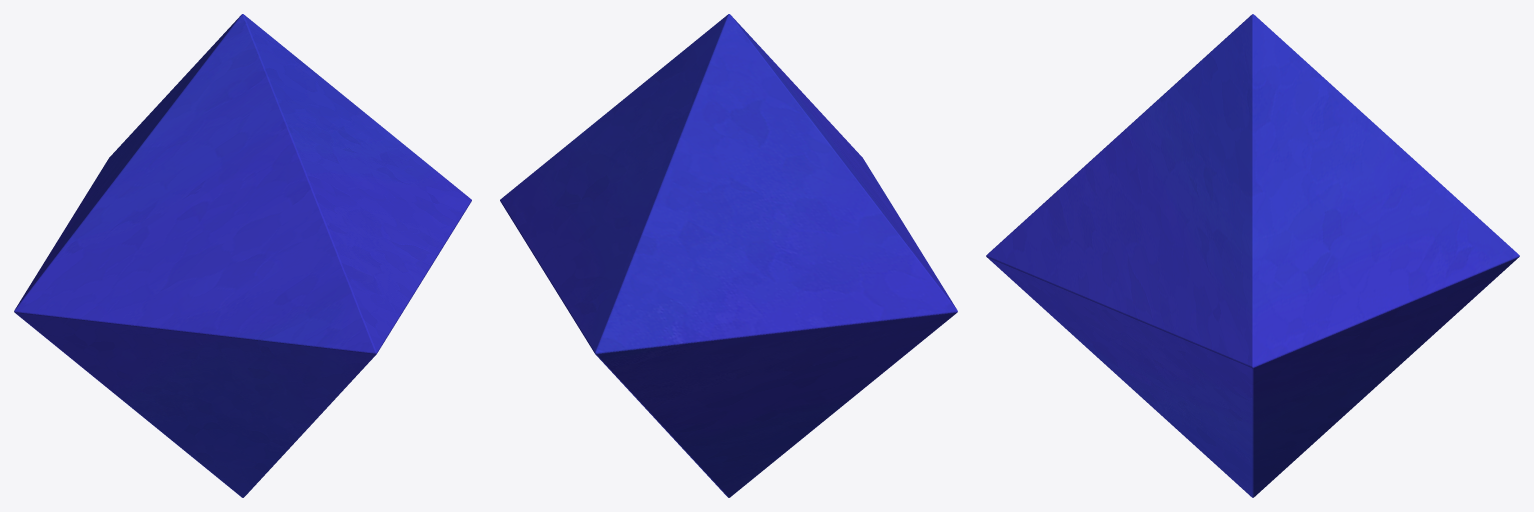
The model's file is diamond-music-gem.glb.
3 views of the same model, side by side, from view 1: azimuth 30°, elevation 25°; view 2: azimuth 150°, elevation 25°; view 3: azimuth 270°, elevation 25° (orthographic).
Parts seen in each view (by area): view 1: diamond-music-gem; view 2: diamond-music-gem; view 3: diamond-music-gem.
Part boxes in pixels (left/top/right/bottom): diamond-music-gem: left=14, top=14, right=471, bottom=497; diamond-music-gem: left=500, top=14, right=957, bottom=497; diamond-music-gem: left=986, top=14, right=1519, bottom=497.
Size of the model in its own units: 0.9116 by 0.9213 by 0.9213.
1 material, 1 textured.
